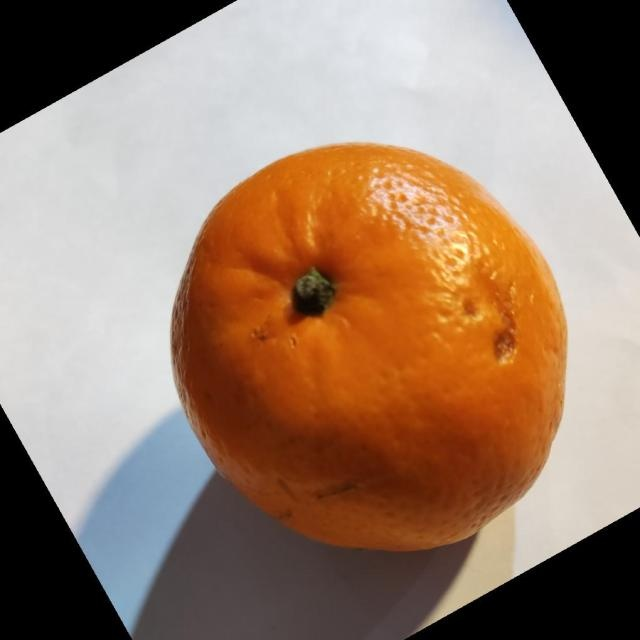agrume: (169, 140, 568, 553)
